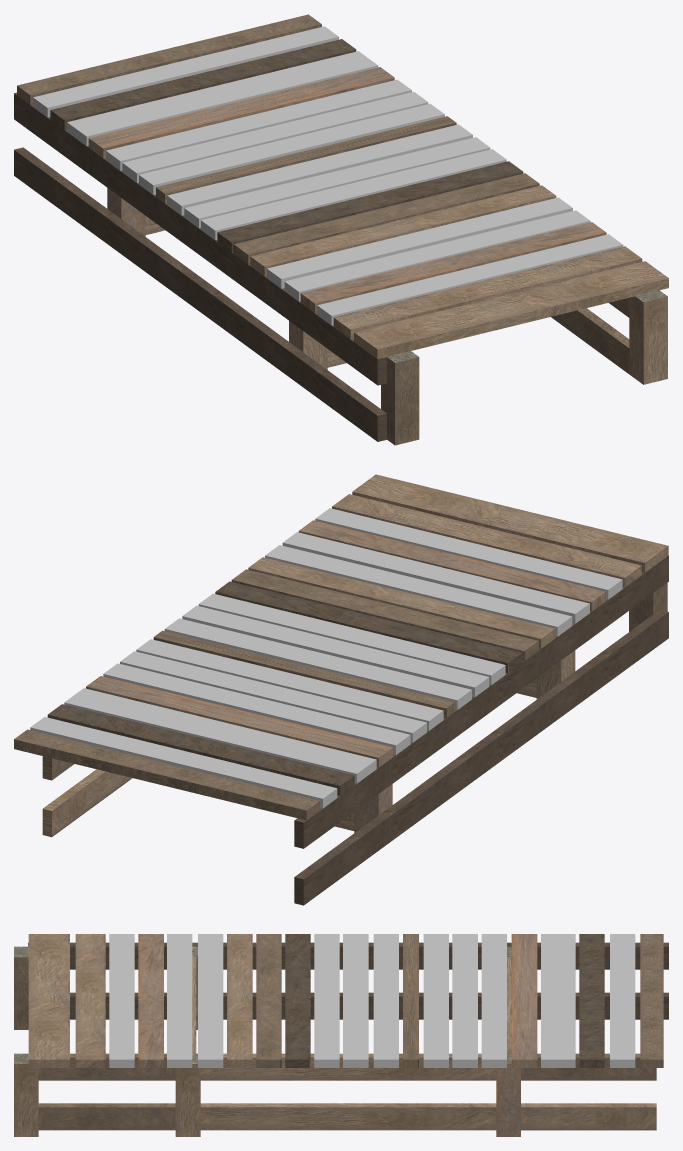
The model's file is WoodFloorHalfA.fbx.
3 renders of one model, top to bottom at view 1: azimuth 30°, elevation 25°; view 2: azimuth 150°, elevation 25°; view 3: azimuth 270°, elevation 25°, orthographic. The views are drawn at different scales.
Visible parts, largest first — view 1: WoodFloorHalfA; view 2: WoodFloorHalfA; view 3: WoodFloorHalfA.
Part boxes in pixels (<box>): WoodFloorHalfA: <box>14,14,668,445</box>; WoodFloorHalfA: <box>14,474,668,905</box>; WoodFloorHalfA: <box>14,934,668,1136</box>.
Size of the model in its own units: 187 by 56.6 by 413.
